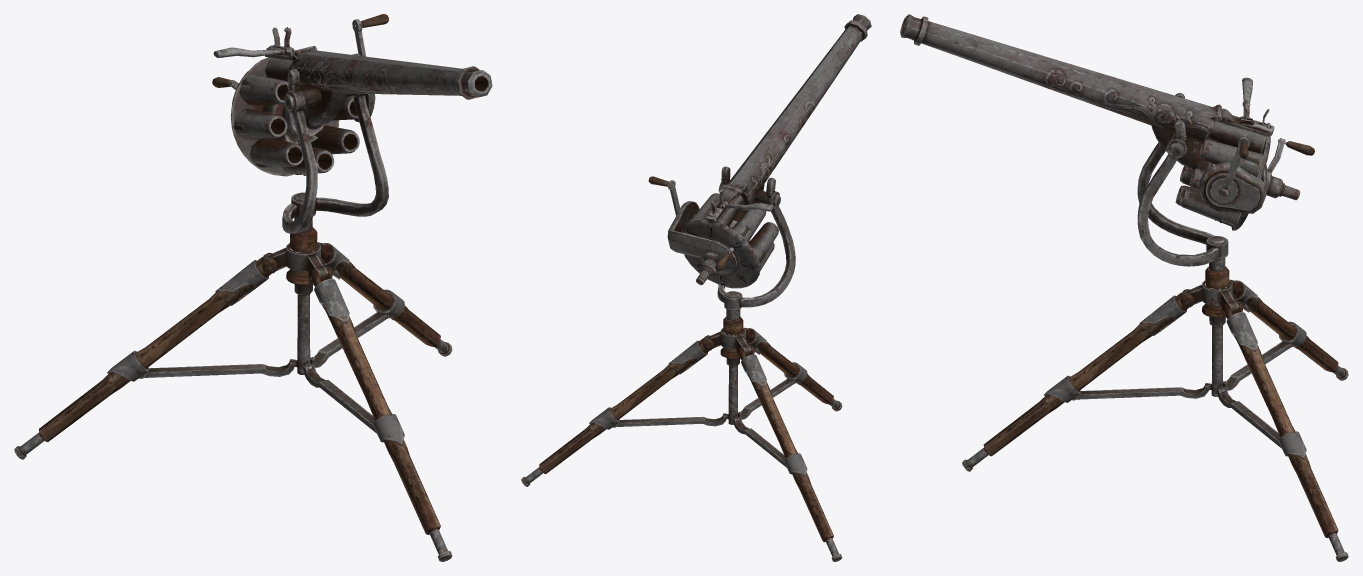
Rendered from PuckleTurret3-transformed.glb.
3 views of the same model, side by side, from view 1: azimuth 30°, elevation 25°; view 2: azimuth 150°, elevation 25°; view 3: azimuth 270°, elevation 25° (orthographic). The views are drawn at different scales.
Parts seen in each view (by area): view 1: PuckleTurret3; view 2: PuckleTurret3; view 3: PuckleTurret3.
Boxes of the visible parts, <box> form: PuckleTurret3: <box>14,14,492,561</box>; PuckleTurret3: <box>521,14,871,561</box>; PuckleTurret3: <box>900,14,1348,561</box>.
Bounding box in the file's own units: 1.3 × 1.47 × 1.31.
1 material, 1 textured.
